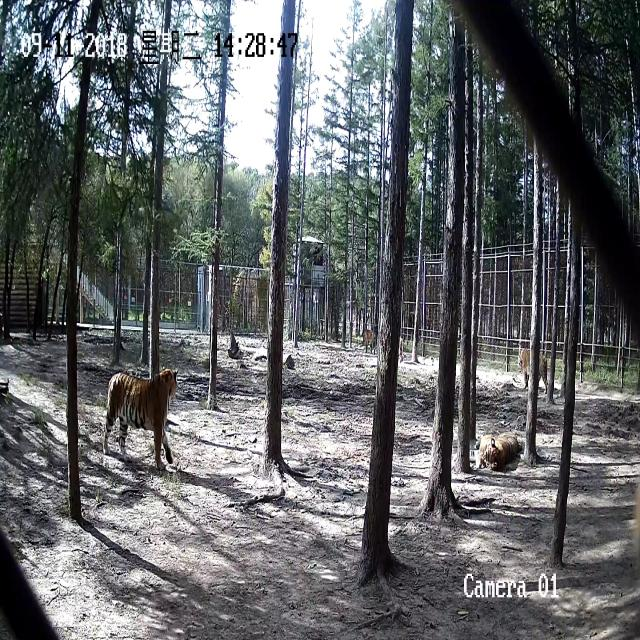Tiger: (96, 366, 186, 484), (471, 426, 528, 476), (509, 340, 553, 400)
